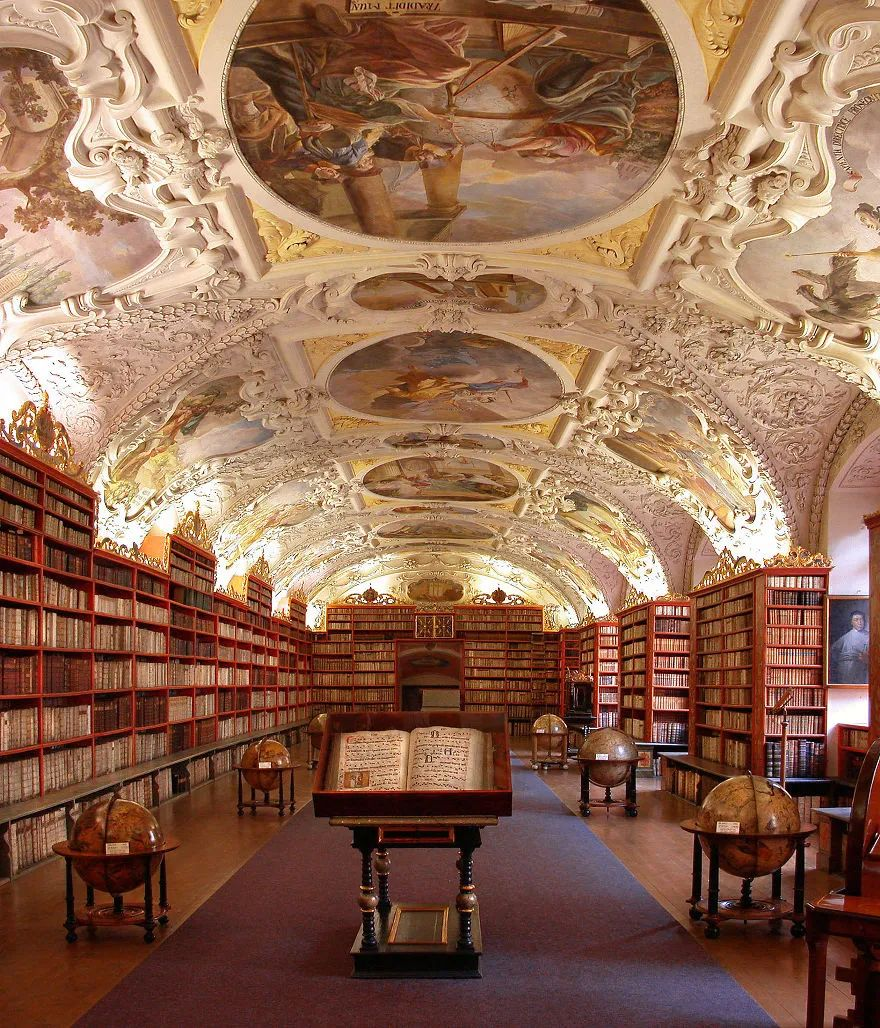book: (324, 728, 481, 797)
